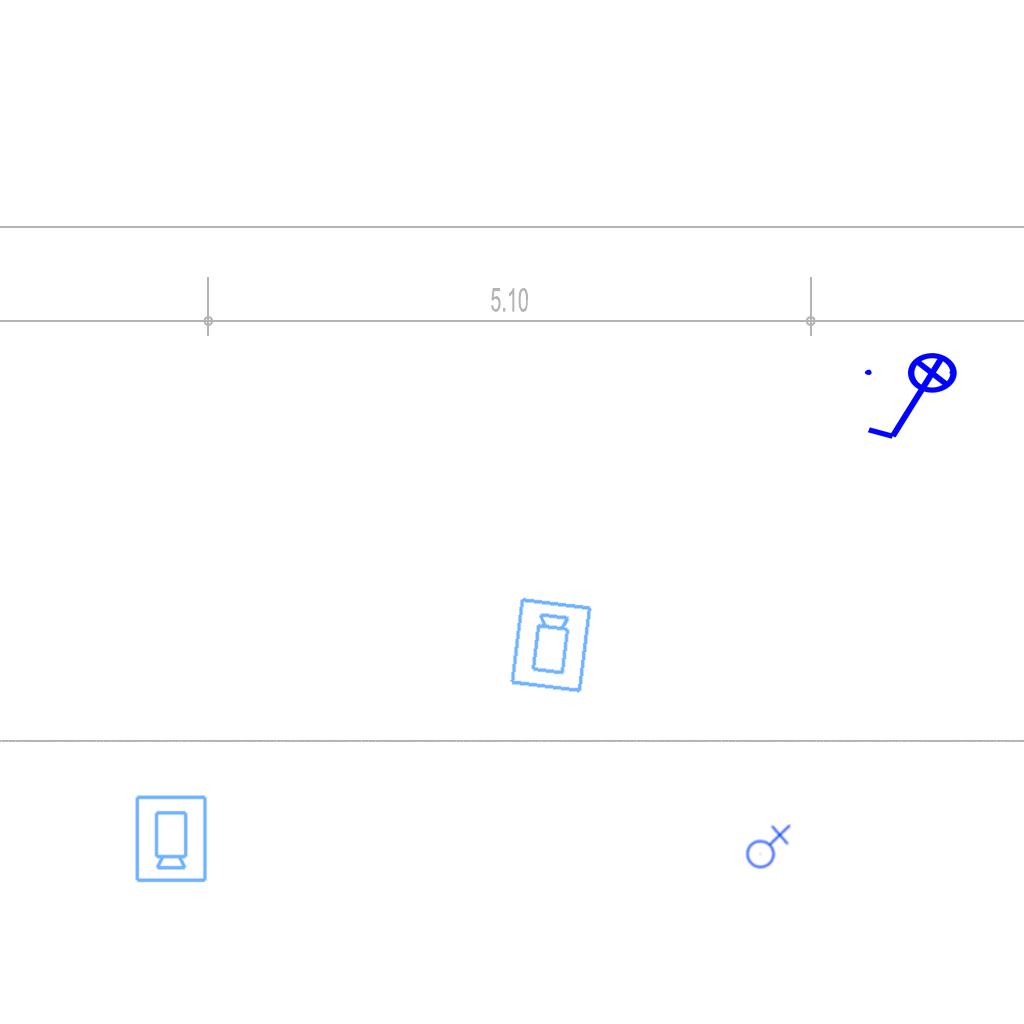Ausschalter_beleuchtet: (859, 351, 971, 447)
Elektroanschluss_allgemein_230V_Geraeteanschlussdose_230V: (742, 822, 791, 869)
KFO_Kamera_mit_Festobjektiv: (507, 595, 596, 696), (132, 793, 209, 884)
